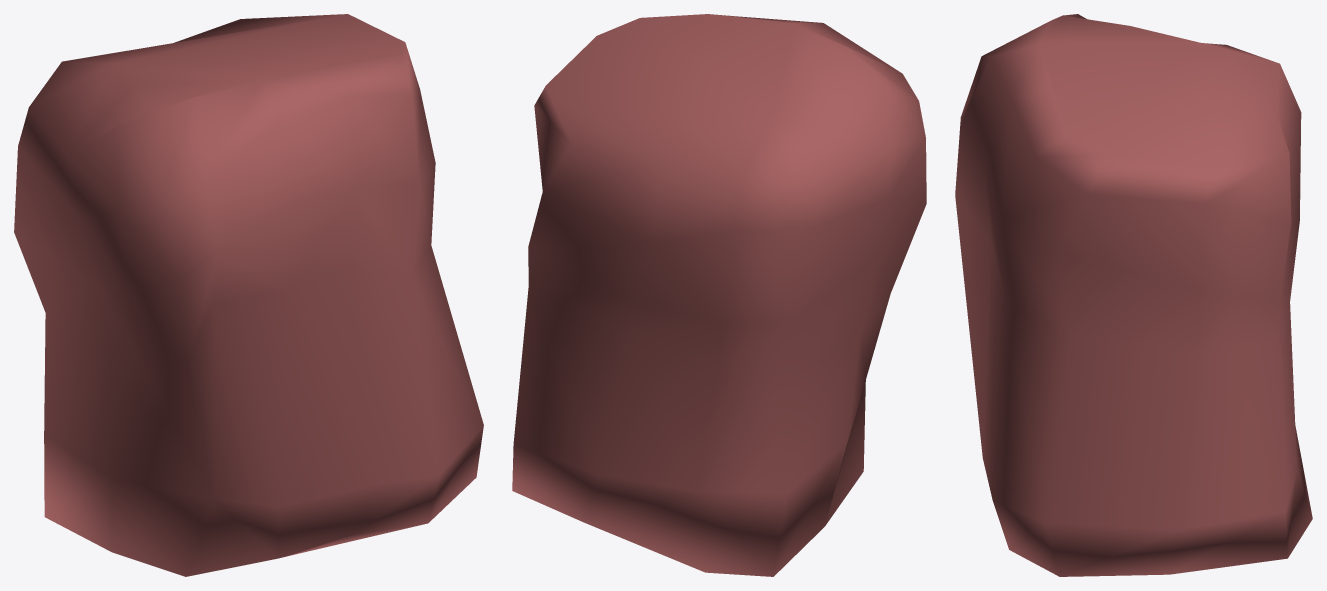
Rendered from SM_cliff03_low.fbx.
The picture shows the model from 3 angles, left to right: view 1: azimuth 30°, elevation 25°; view 2: azimuth 150°, elevation 25°; view 3: azimuth 270°, elevation 25°; orthographic projection. The views are drawn at different scales.
Visible parts, largest first — view 1: SM_cliff03_low; view 2: SM_cliff03_low; view 3: SM_cliff03_low.
Boxes of the visible parts, x1,y1,x2,y2 form: SM_cliff03_low: (14,14,483,576); SM_cliff03_low: (512,14,926,576); SM_cliff03_low: (955,14,1312,576).
Bounding box in the file's own units: 6.3 × 8.24 × 5.51.
